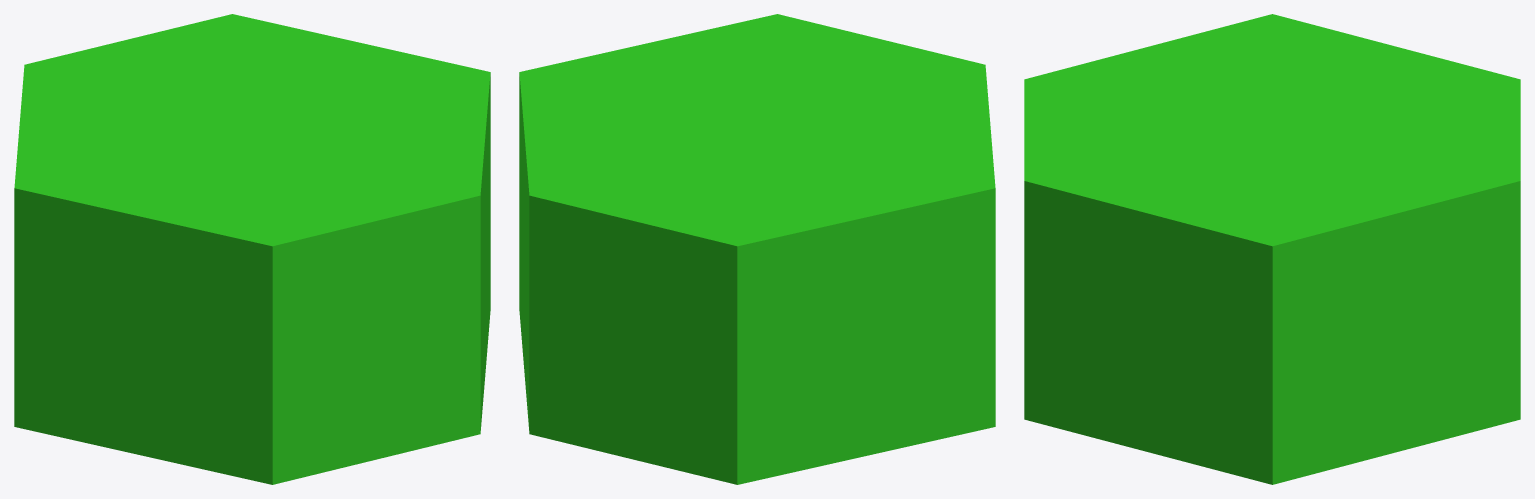
Rendered from NormalContent.fbx.
The picture shows the model from 3 angles, left to right: view 1: azimuth 30°, elevation 25°; view 2: azimuth 150°, elevation 25°; view 3: azimuth 270°, elevation 25°; orthographic projection.
Parts seen in each view (by area): view 1: Model; view 2: Model; view 3: Model.
Boxes of the visible parts, bbox=[...] form: Model: bbox=[14, 14, 490, 484]; Model: bbox=[519, 14, 995, 484]; Model: bbox=[1024, 14, 1520, 484].
Size of what is drawn, in the model's own units: 0.643 by 0.308 by 0.5802.
